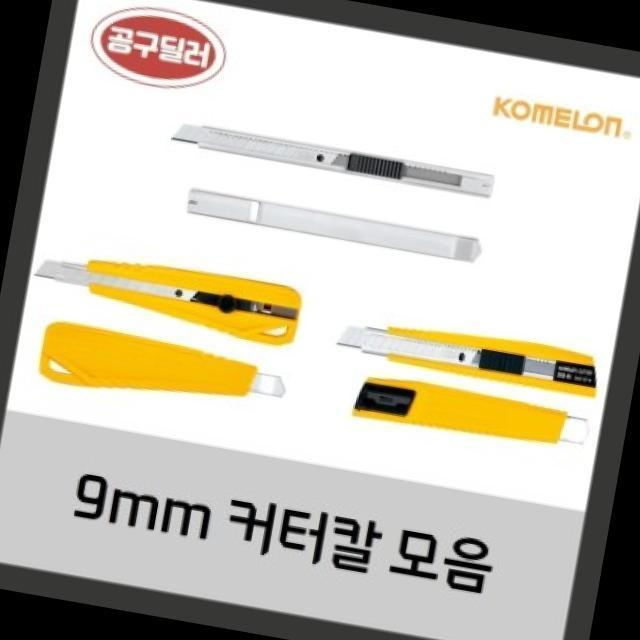cutter: (19, 238, 318, 366), (166, 109, 507, 208), (175, 176, 492, 272), (333, 302, 611, 406), (342, 366, 599, 470)
